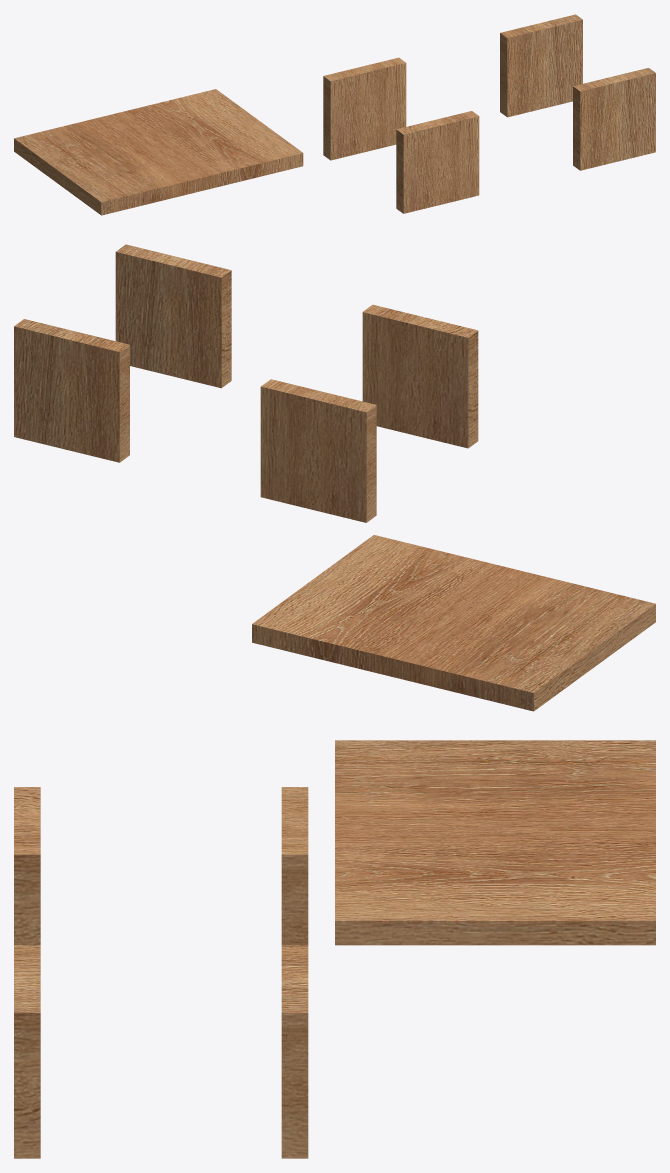
File: 19665_gpt-only.glb
3 views of the same model, one above another, from view 1: azimuth 30°, elevation 25°; view 2: azimuth 150°, elevation 25°; view 3: azimuth 270°, elevation 25° (orthographic). The views are drawn at different scales.
Visible parts, largest first — view 1: ParentEmpty; view 2: ParentEmpty; view 3: ParentEmpty.
Part boxes in pixels (bbox=[...]): ParentEmpty: bbox=[14, 14, 655, 215]; ParentEmpty: bbox=[14, 244, 655, 711]; ParentEmpty: bbox=[14, 740, 655, 1158].
Bounding box in the file's own units: 1 × 0.1894 × 0.6486.
1 material, 1 textured.
